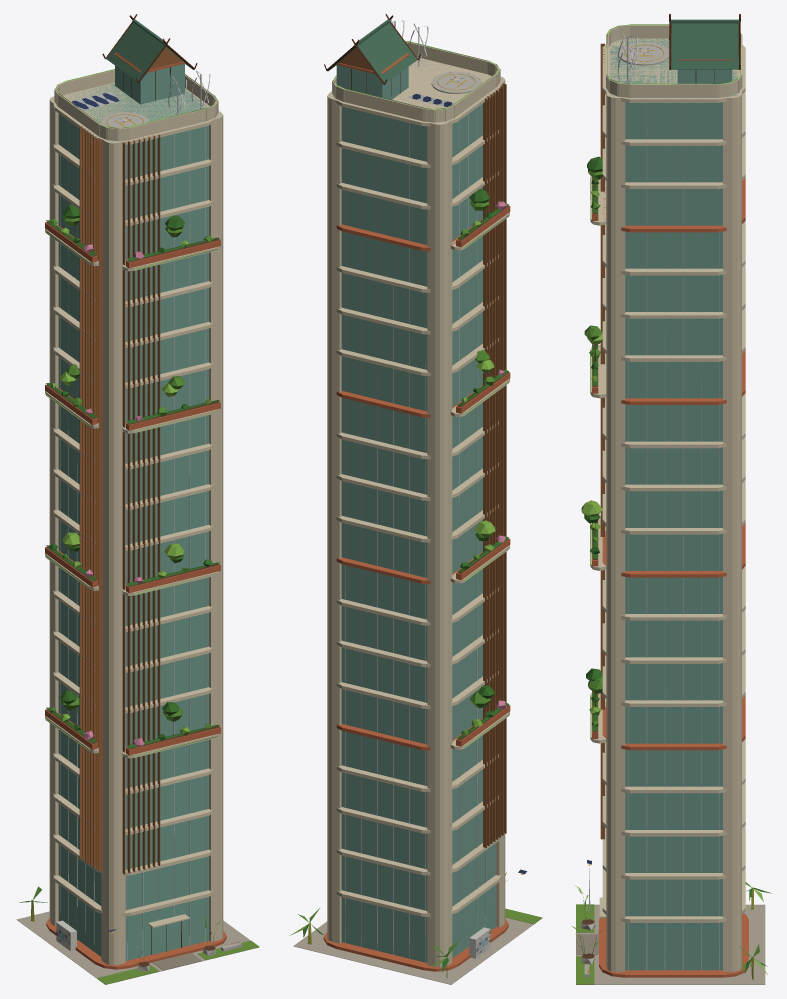
File: shop_4.glb
3 renders of one model, left to right at view 1: azimuth 30°, elevation 25°; view 2: azimuth 150°, elevation 25°; view 3: azimuth 270°, elevation 25°, orthographic. The views are drawn at different scales.
Visible parts, largest first — view 1: body, windows; view 2: body, windows; view 3: body, windows.
Boxes of the visible parts, x1=… form: body: x1=16, y1=14, x2=259, y2=984; windows: x1=45, y1=69, x2=217, y2=939; body: x1=289, y1=14, x2=542, y2=984; windows: x1=333, y1=41, x2=524, y2=947; body: x1=572, y1=14, x2=771, y2=984; windows: x1=588, y1=24, x2=741, y2=865.
Size of the model in its own units: 17.05 by 87.51 by 16.94.
